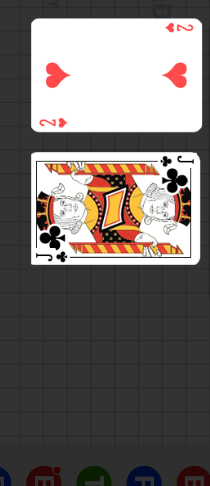2H: (38, 116, 70, 128)
JC: (35, 249, 70, 264)
